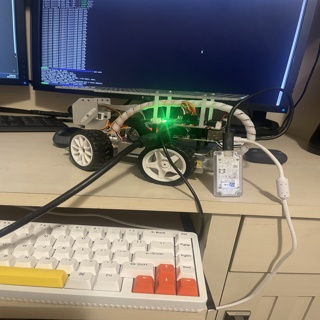vehicle: (52, 80, 250, 186)
